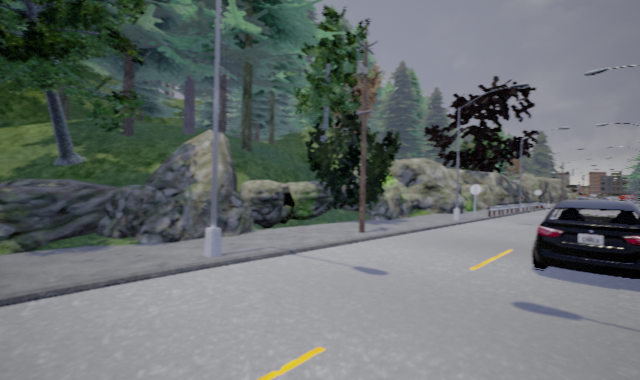vehicle: (531, 197, 639, 281)
